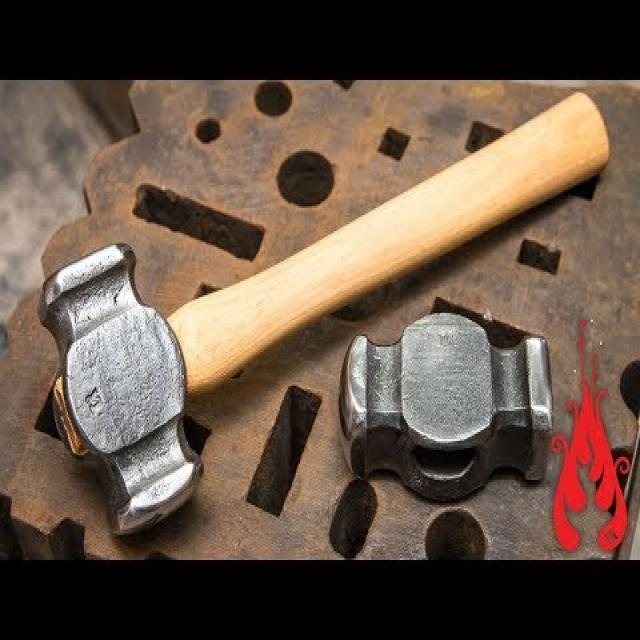hammer: (35, 76, 613, 544)
